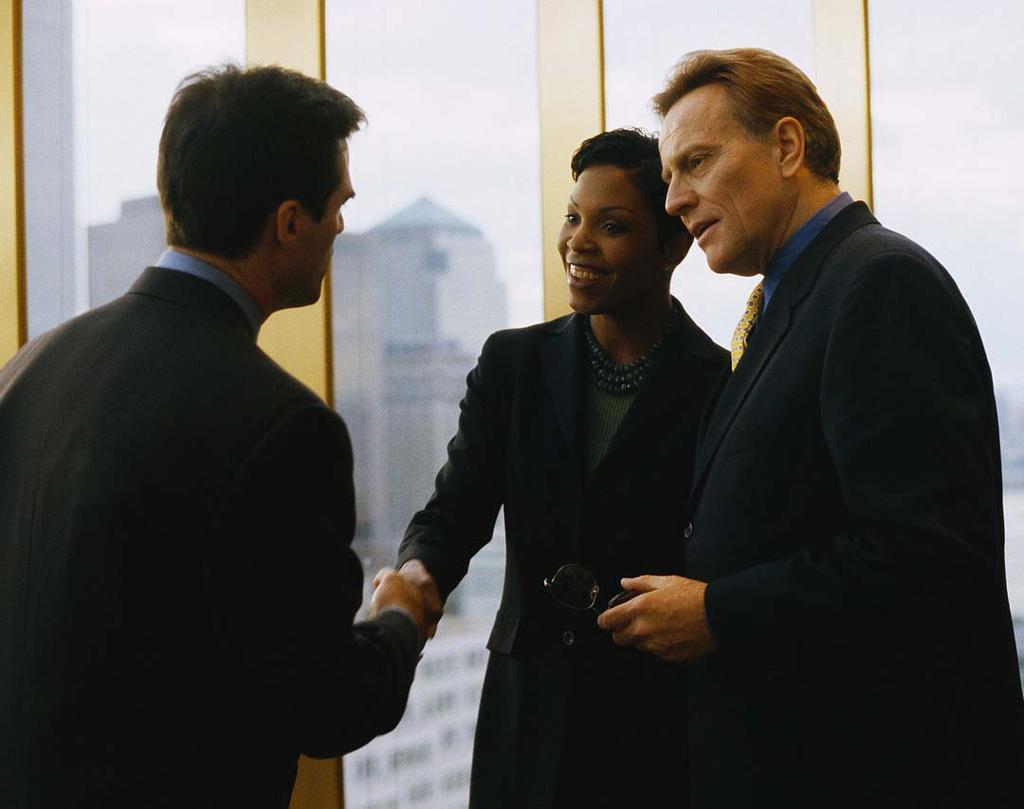face: (659, 101, 782, 266), (560, 173, 665, 313), (272, 156, 355, 301)
